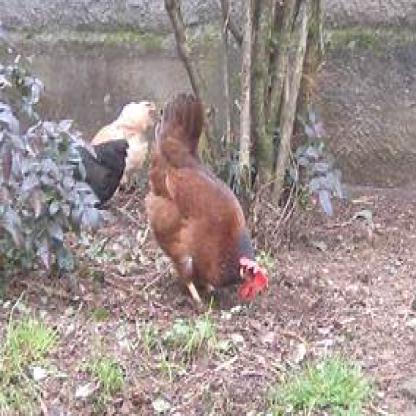chicken: (144, 94, 271, 320)
